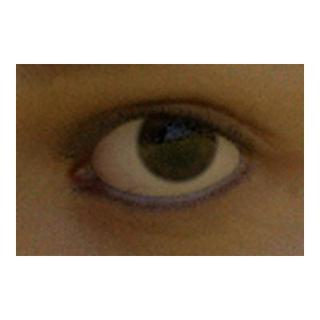pupil: (158, 122, 197, 161)
